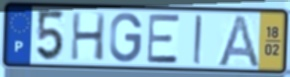5: (36, 8, 67, 64)
A: (215, 13, 262, 69)
E: (146, 13, 181, 65)
G: (108, 11, 145, 65)
H: (69, 11, 108, 62)
I: (192, 13, 203, 66)
